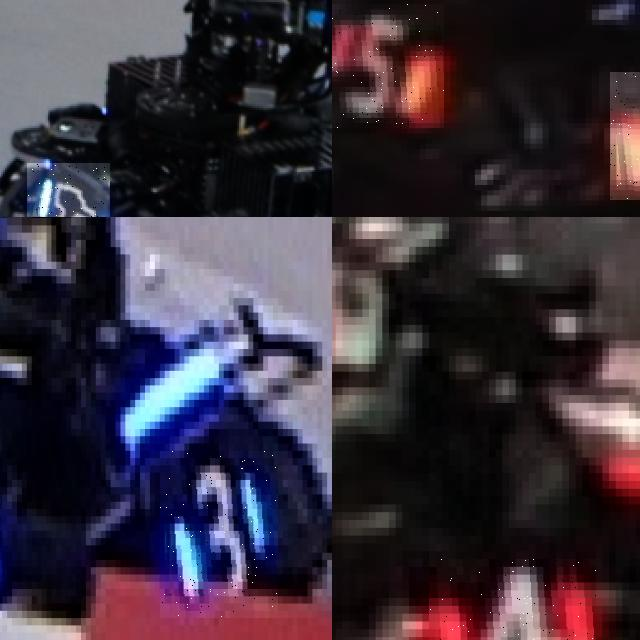B3: (160, 451, 278, 618)
Bs: (27, 163, 109, 217)
R4: (429, 559, 595, 640)
R5: (332, 4, 444, 128)
